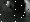person: (23, 1, 30, 18), (9, 3, 15, 12)
